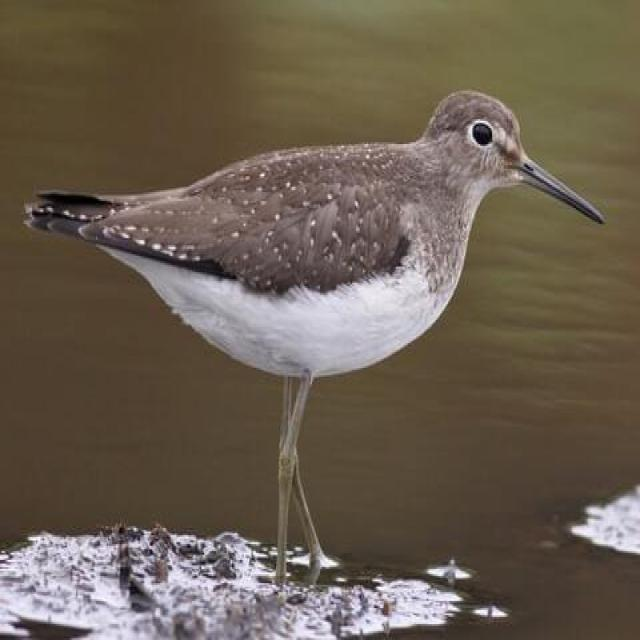Sandpiper: (32, 85, 602, 555)
